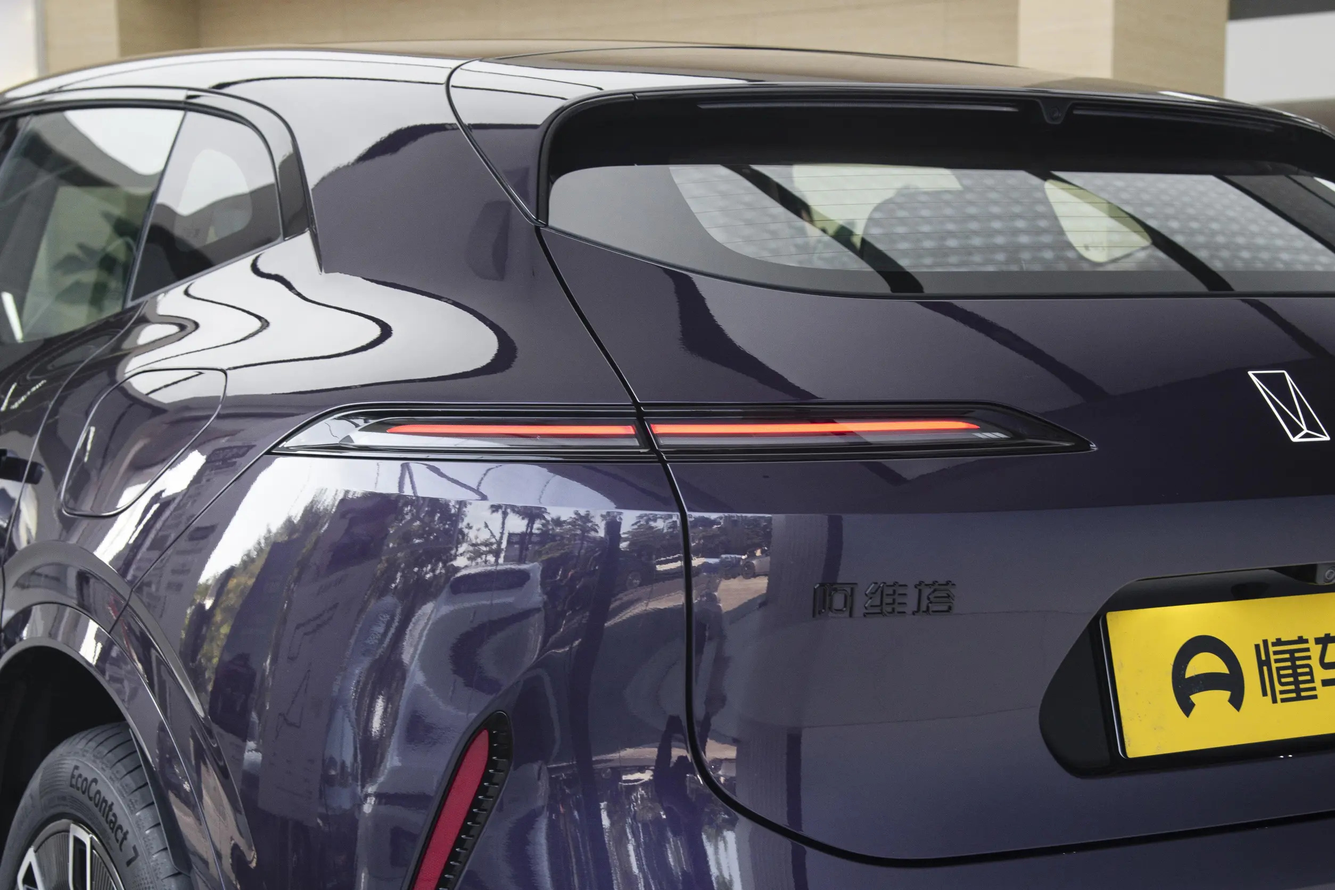AVATR: (1248, 371, 1330, 441)
